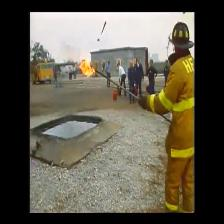fire: (78, 58, 94, 74)
